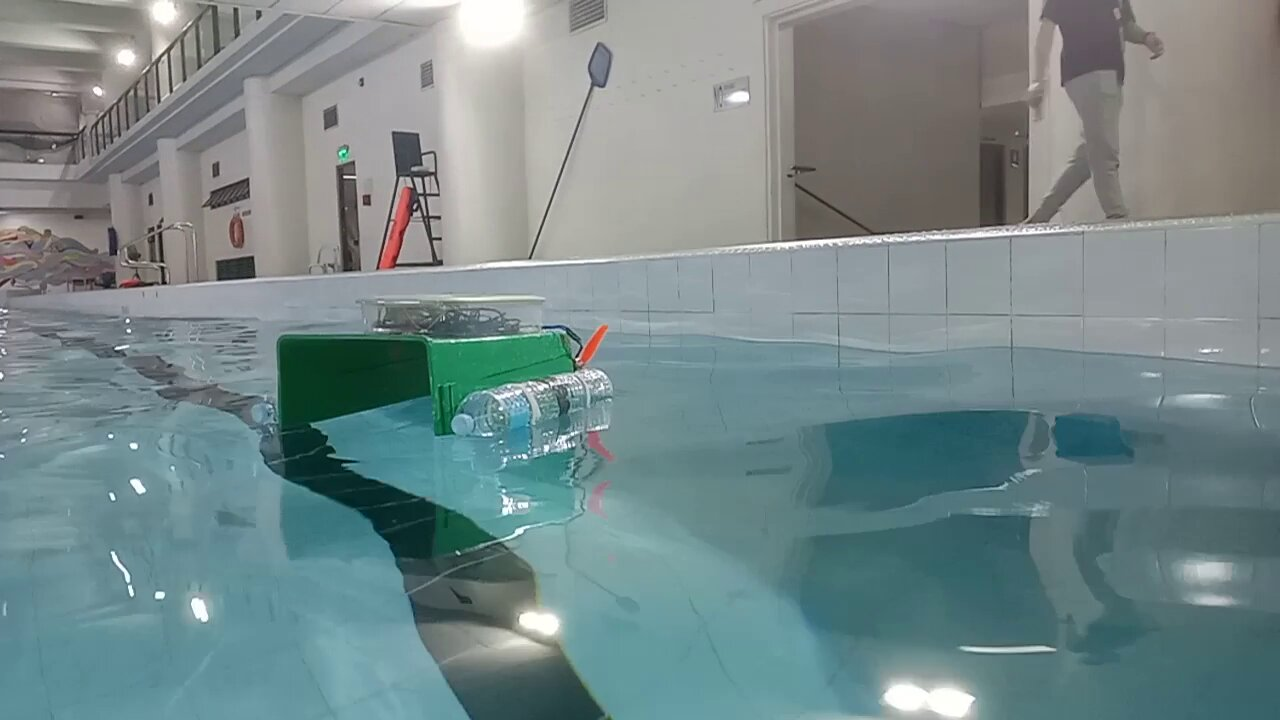drone: (250, 292, 615, 443)
